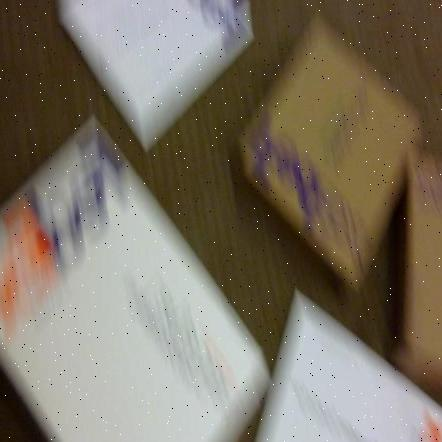Amazon: (0, 138, 267, 442), (269, 42, 418, 270), (407, 151, 442, 374)
